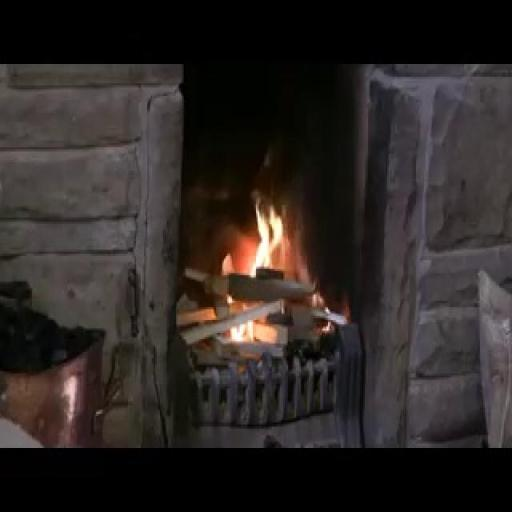smoke: (230, 174, 292, 280)
